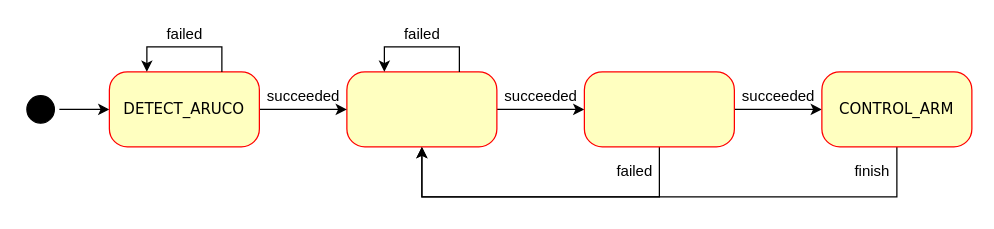
The diagram is 994 pixels wide and 229 high, and some of its shapes have lost their labels. Here are the shapes that lost their labels. From the top down, the centre of each, then its label:
point 421,109: DETECT_COLA
point 658,109: TRANSFORM_AXIS
